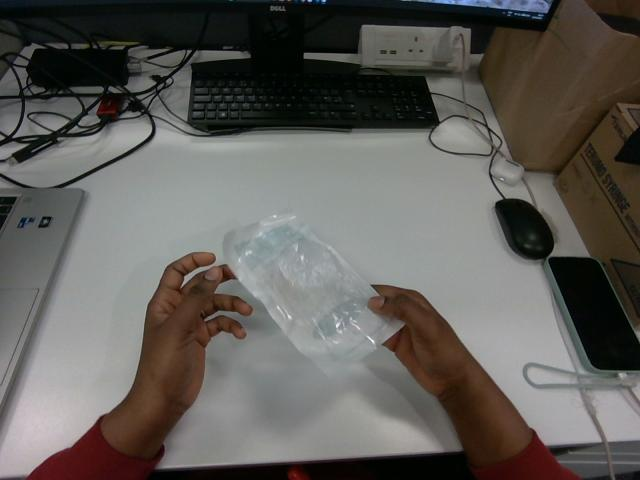gallipot: (223, 213, 402, 374)
